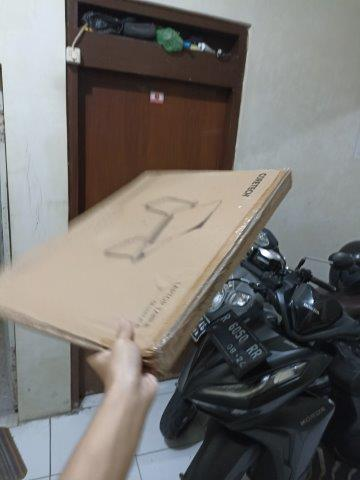kardus: (3, 173, 293, 366)
